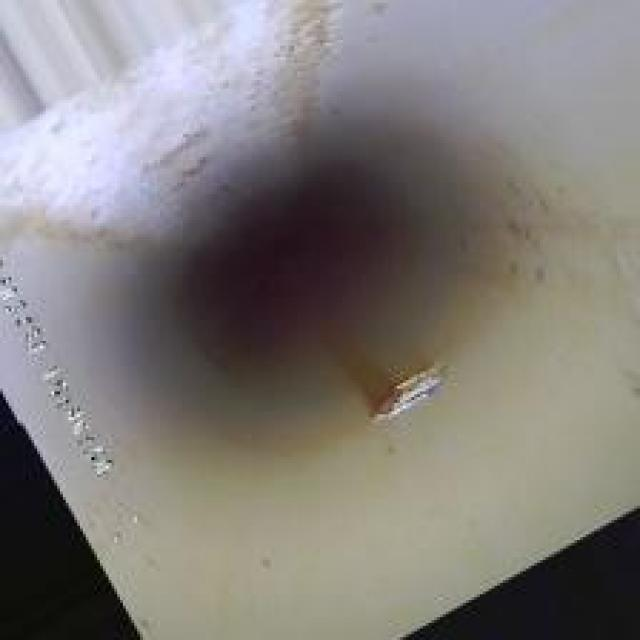ferrule: (360, 360, 460, 420)
